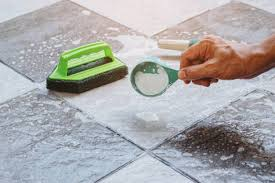Wet-floor: (7, 91, 272, 183)
